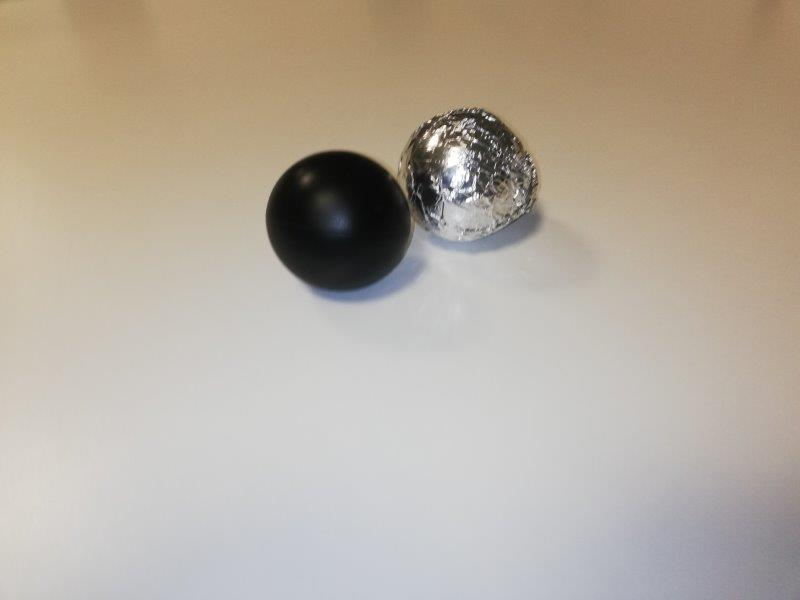bianca: (399, 106, 542, 242)
nera: (264, 148, 411, 290)
